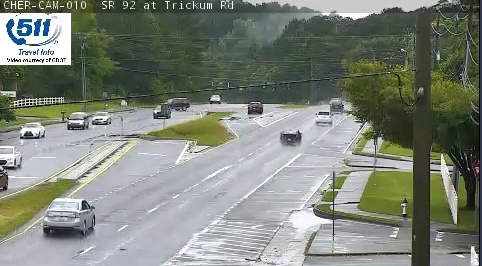car: (43, 199, 95, 229), (279, 128, 302, 145), (315, 111, 332, 125)
